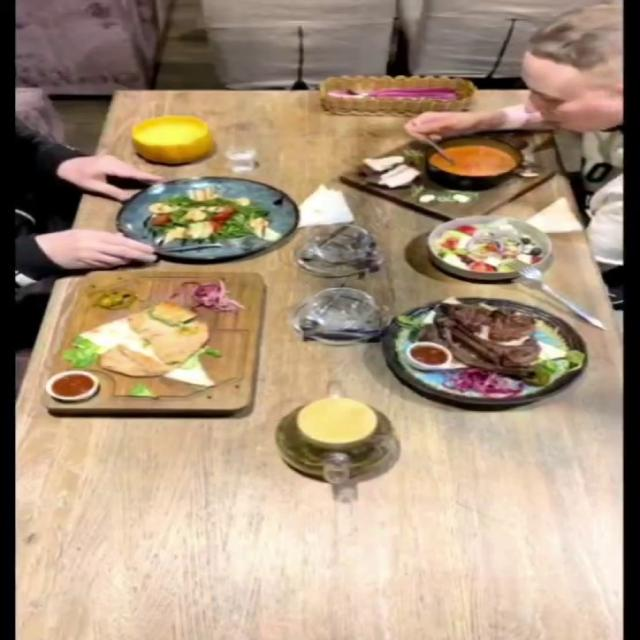alcohol: (219, 133, 274, 178)
meat: (379, 296, 589, 405)
salat: (114, 176, 297, 260), (426, 213, 555, 280)
soup: (335, 130, 556, 221), (130, 114, 214, 163)
tea: (273, 399, 397, 480)
